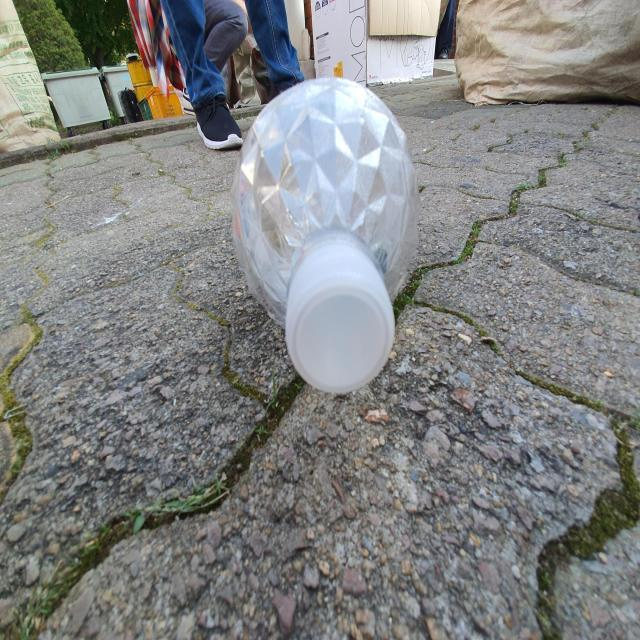plastic: (233, 78, 419, 393)
